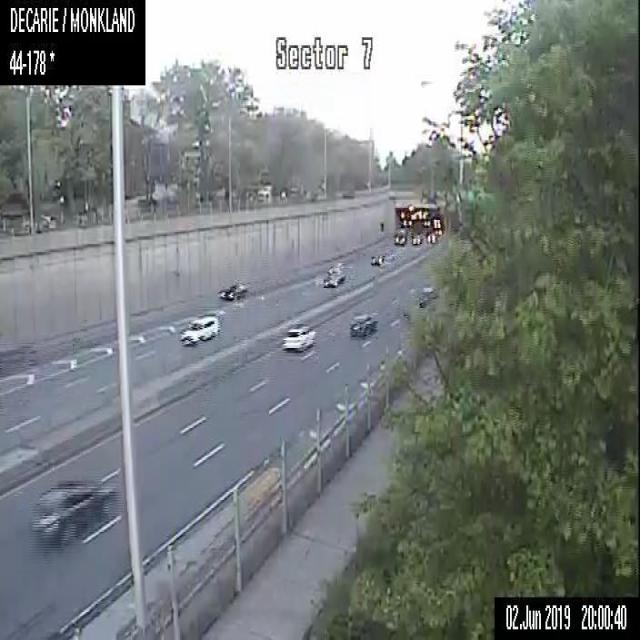vehicle: (28, 476, 119, 545), (180, 314, 218, 346), (281, 323, 312, 352), (347, 311, 379, 338), (215, 280, 248, 300), (322, 264, 346, 287), (393, 228, 408, 246), (369, 252, 386, 265), (426, 230, 436, 242), (412, 233, 422, 244)
